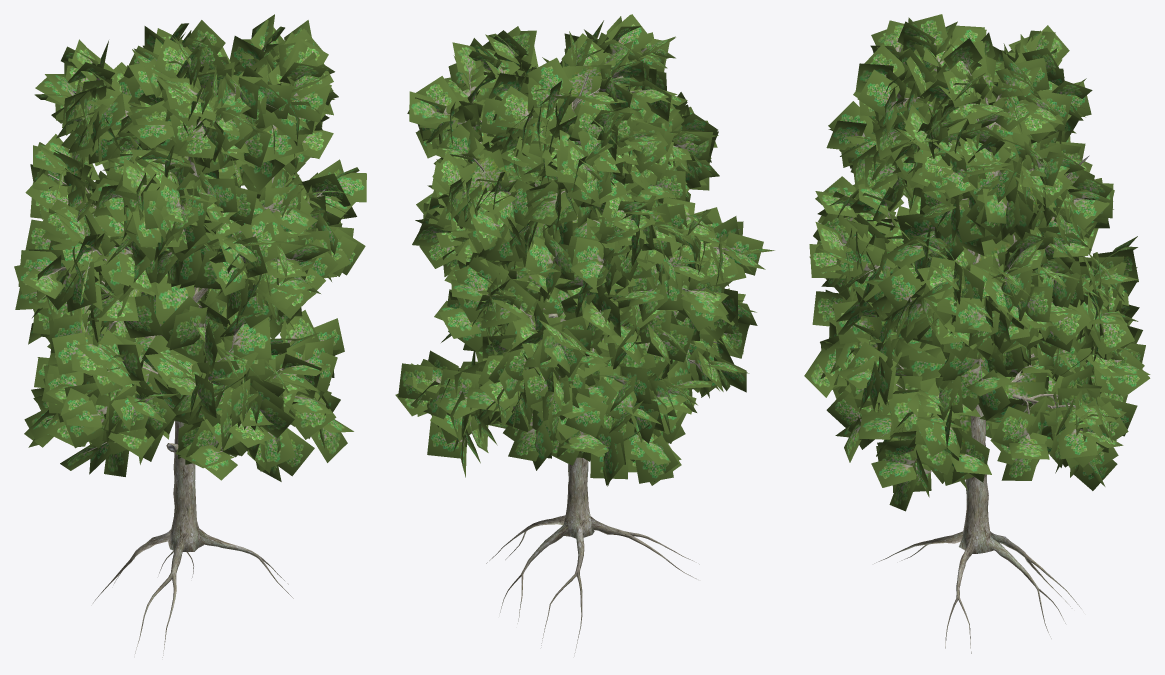
File: Red_Maple_Young.fbx
3 renders of one model, left to right at view 1: azimuth 30°, elevation 25°; view 2: azimuth 150°, elevation 25°; view 3: azimuth 270°, elevation 25°, orthographic. The views are drawn at different scales.
Parts seen in each view (by area): view 1: Red_Maple_Hero_Young_2; view 2: Red_Maple_Hero_Young_2; view 3: Red_Maple_Hero_Young_2.
Part boxes in pixels (x1,y1,x2,y2): Red_Maple_Hero_Young_2: (14,14,366,657); Red_Maple_Hero_Young_2: (395,14,774,653); Red_Maple_Hero_Young_2: (804,14,1150,653).
Bounding box in the file's own units: 1.91 × 3.21 × 1.66.
Materials: 5 (5 with a texture image).
